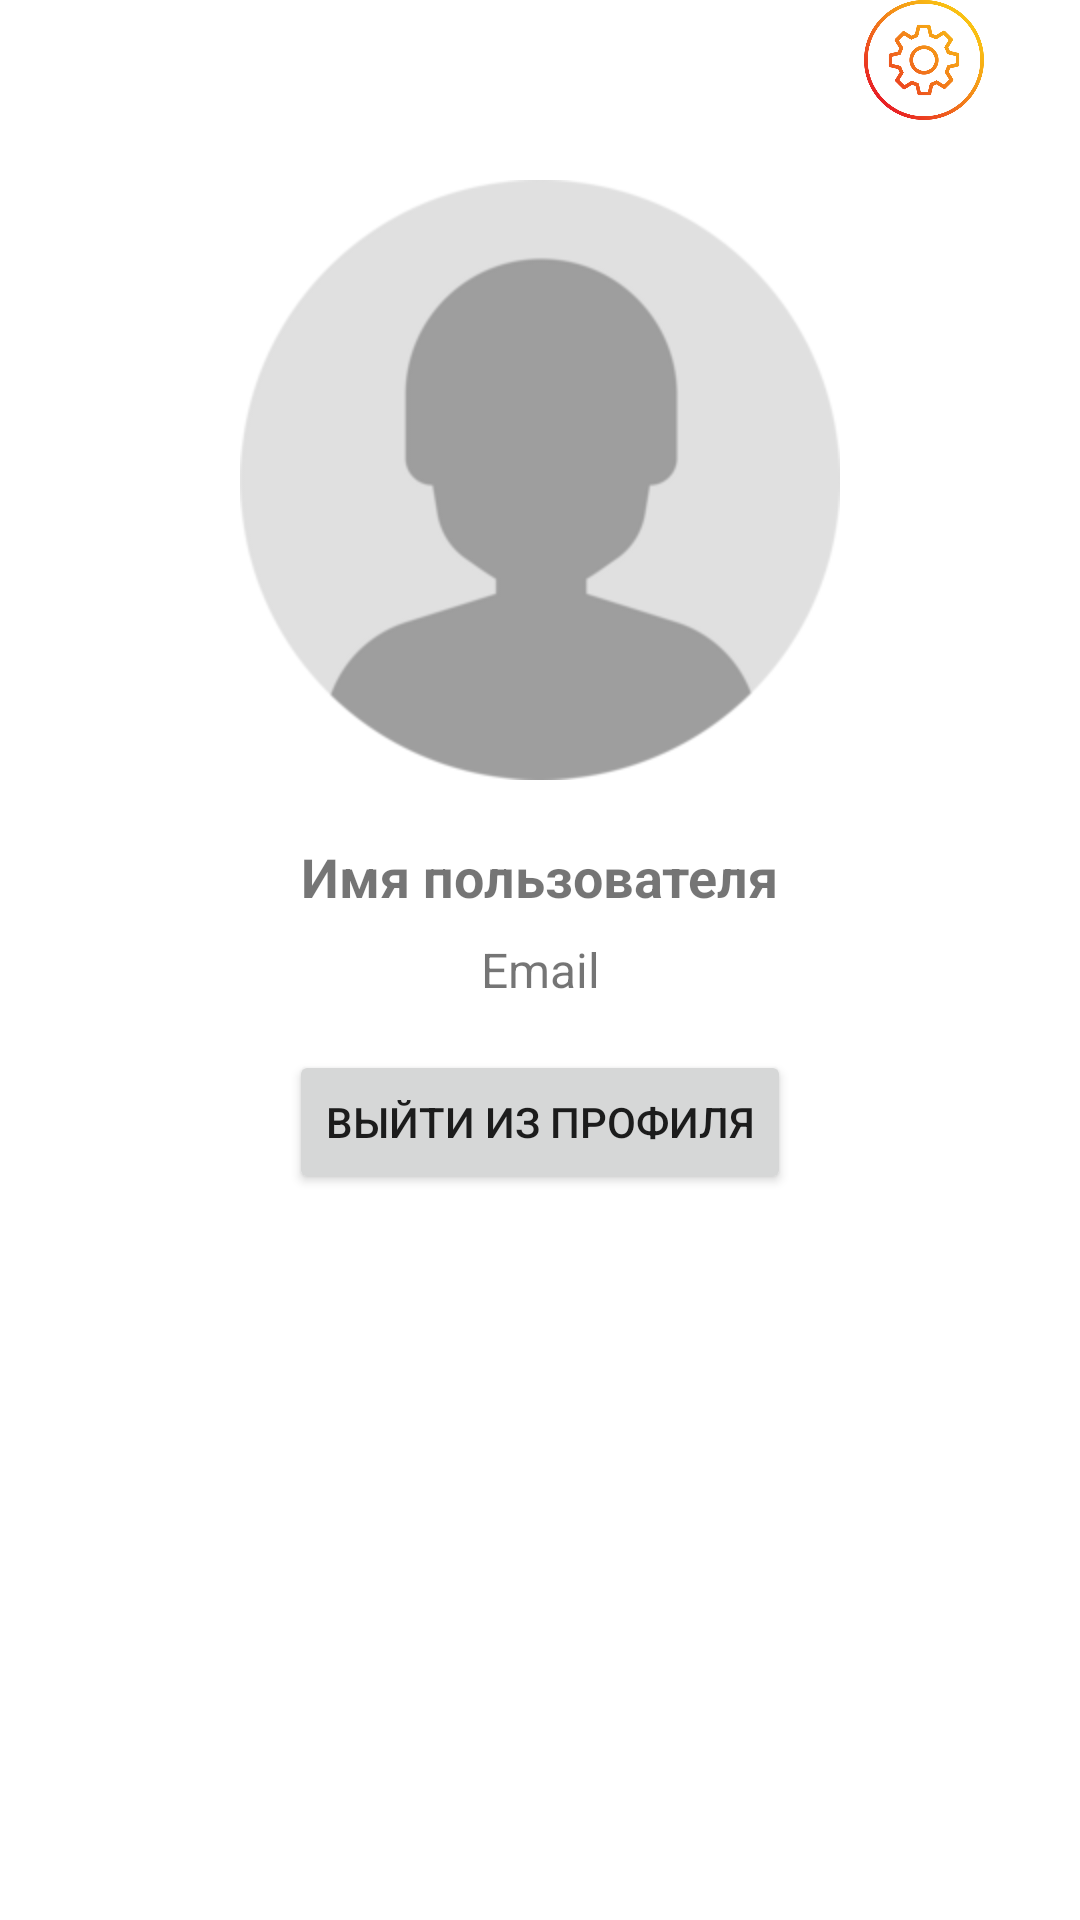

Icons on this 1080w x 1920h Android screen, each with the point to tap as [x,y]:
Настройки: [924,60]
